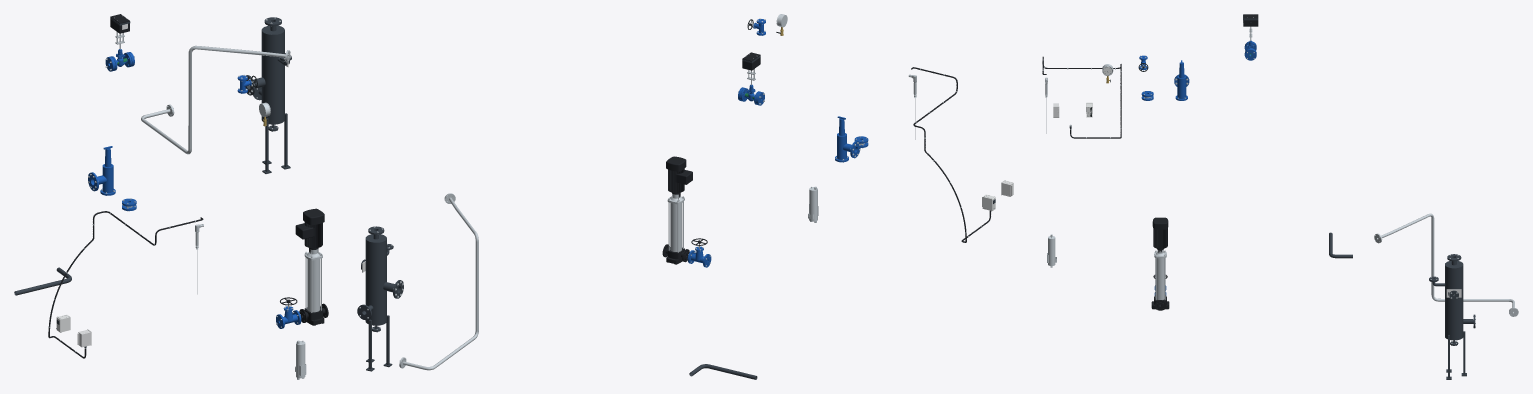
The model's file is s4000-6-BmEzN2-A.glb.
3 renders of one model, left to right at view 1: azimuth 30°, elevation 25°; view 2: azimuth 150°, elevation 25°; view 3: azimuth 270°, elevation 25°, orthographic. The views are drawn at different scales.
Visible parts, largest first — view 1: separator_fv8 / dark, trap_gap_to_bdv / steel, pump_1 CAD solid 15, pump_1 CAD solid 2, safety_2 / blue, wiring_lcs600 / black, pump_1 CAD solid 0, sc9 / sc9_0.npz, bottom_bypass_before / dark, pump_in_valve_1 / blue; view 2: separator_fv8 / dark, trap_gap_to_bdv / steel, pump_1 CAD solid 15, safety_2 / blue, pump_1 CAD solid 2, wiring_lcs600 / black; view 3: separator_fv8 / dark, trap_gap_to_bdv / steel, pump_1 CAD solid 15, pump_1 CAD solid 2.
Part boxes in pixels (left/top/right/bottom): separator_fv8 / dark: left=245, top=17, right=291, bottom=173; trap_gap_to_bdv / steel: left=141, top=45, right=290, bottom=154; pump_1 CAD solid 15: left=295, top=208, right=324, bottom=248; pump_1 CAD solid 2: left=307, top=259, right=320, bottom=312; safety_2 / blue: left=88, top=146, right=115, bottom=195; wiring_lcs600 / black: left=48, top=211, right=203, bottom=358; pump_1 CAD solid 0: left=299, top=303, right=328, bottom=325; sc9 / sc9_0.npz: left=295, top=340, right=306, bottom=379; bottom_bypass_before / dark: left=14, top=267, right=71, bottom=295; pump_in_valve_1 / blue: left=276, top=306, right=301, bottom=328; separator_fv8 / dark: left=357, top=226, right=403, bottom=371; trap_gap_to_bdv / steel: left=399, top=193, right=478, bottom=370; pump_1 CAD solid 15: left=666, top=156, right=692, bottom=193; safety_2 / blue: left=835, top=116, right=860, bottom=162; pump_1 CAD solid 2: left=670, top=203, right=681, bottom=251; wiring_lcs600 / black: left=911, top=67, right=990, bottom=242; separator_fv8 / dark: left=1429, top=254, right=1475, bottom=379; trap_gap_to_bdv / steel: left=1374, top=213, right=1518, bottom=316; pump_1 CAD solid 15: left=1152, top=217, right=1168, bottom=249; pump_1 CAD solid 2: left=1155, top=258, right=1164, bottom=299.
Size of the model in its own units: 4.98 by 3.24 by 5.6.
